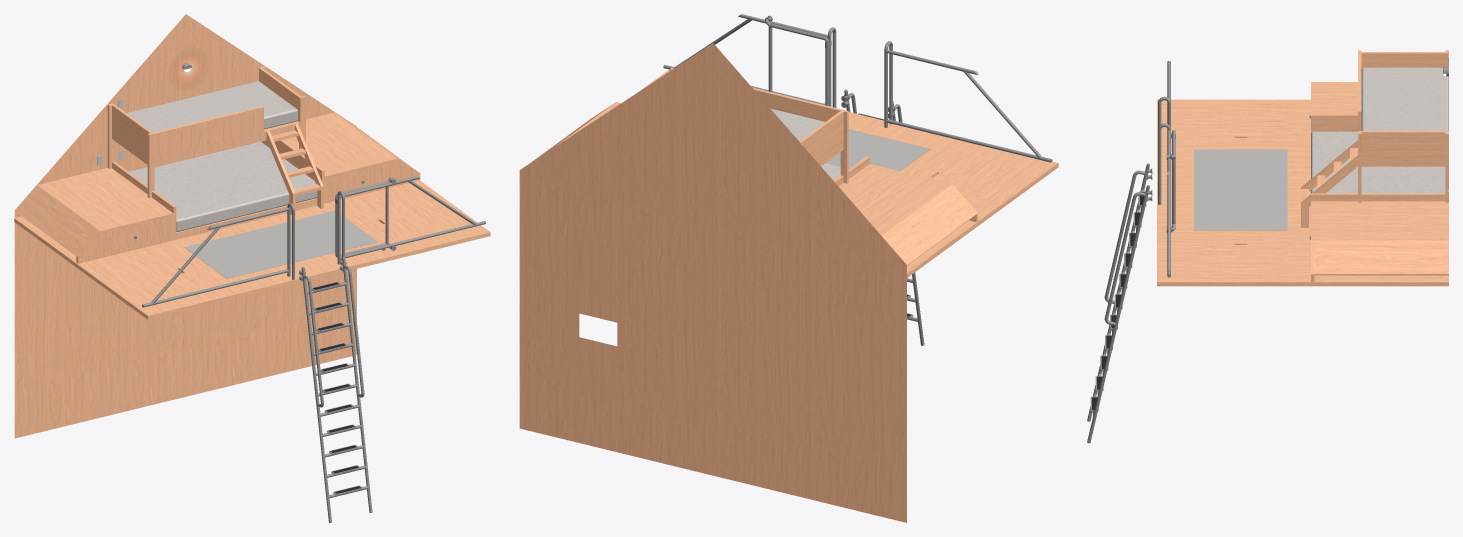
The model's file is Mezzanine Bunk.glb.
3 views of the same model, side by side, from view 1: azimuth 30°, elevation 25°; view 2: azimuth 150°, elevation 25°; view 3: azimuth 270°, elevation 25° (orthographic). The views are drawn at different scales.
Parts seen in each view (by area): view 1: Interior_Wood_Mezzanine Bunk, White_fabric_Mezzanine Bunk, Alumininum_1_Mezzanine Bunk, White Fabrics_Metress_Mezzanine Bunk, Black_Mezzanine Bunk; view 2: Interior_Wood_Mezzanine Bunk, Alumininum_1_Mezzanine Bunk, White Fabrics_Metress_Mezzanine Bunk, White_fabric_Mezzanine Bunk; view 3: Interior_Wood_Mezzanine Bunk, White_fabric_Mezzanine Bunk, White Fabrics_Metress_Mezzanine Bunk, Alumininum_1_Mezzanine Bunk, Black_Mezzanine Bunk.
Boxes of the visible parts, box(x1,y1,x2,y2) form: Interior_Wood_Mezzanine Bunk: box(14, 14, 490, 438); White_fabric_Mezzanine Bunk: box(127, 81, 317, 231); Alumininum_1_Mezzanine Bunk: box(134, 62, 485, 522); White Fabrics_Metress_Mezzanine Bunk: box(184, 210, 377, 278); Black_Mezzanine Bunk: box(313, 282, 360, 493); Interior_Wood_Mezzanine Bunk: box(519, 43, 1058, 522); Alumininum_1_Mezzanine Bunk: box(663, 14, 1052, 345); White Fabrics_Metress_Mezzanine Bunk: box(826, 129, 930, 170); White_fabric_Mezzanine Bunk: box(770, 108, 849, 180); Interior_Wood_Mezzanine Bunk: box(1157, 50, 1448, 286); White_fabric_Mezzanine Bunk: box(1311, 67, 1448, 193); White Fabrics_Metress_Mezzanine Bunk: box(1194, 149, 1287, 230); Alumininum_1_Mezzanine Bunk: box(1087, 61, 1448, 443); Black_Mezzanine Bunk: box(1092, 192, 1144, 410).
Bounding box in the file's own units: 1.88 × 2.01 × 1.58.
9 materials, 6 textured.
